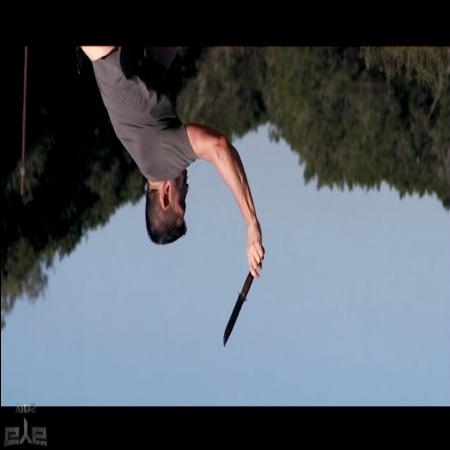long weapon: (216, 238, 265, 354)
